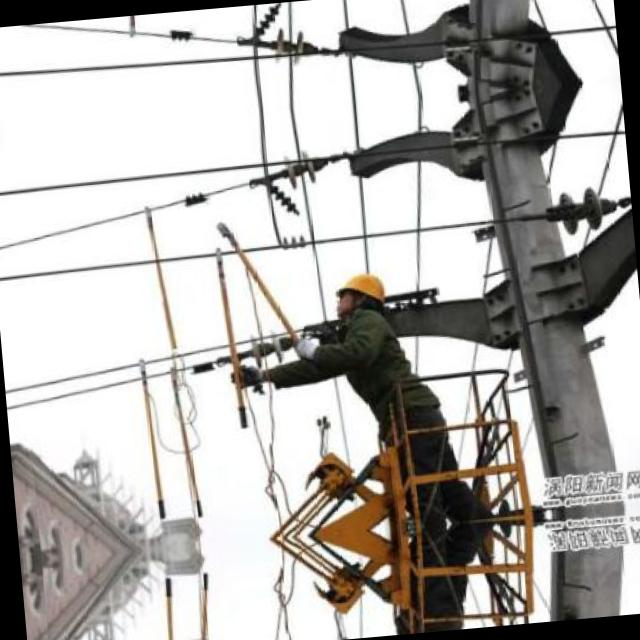helmet: (331, 268, 388, 325)
